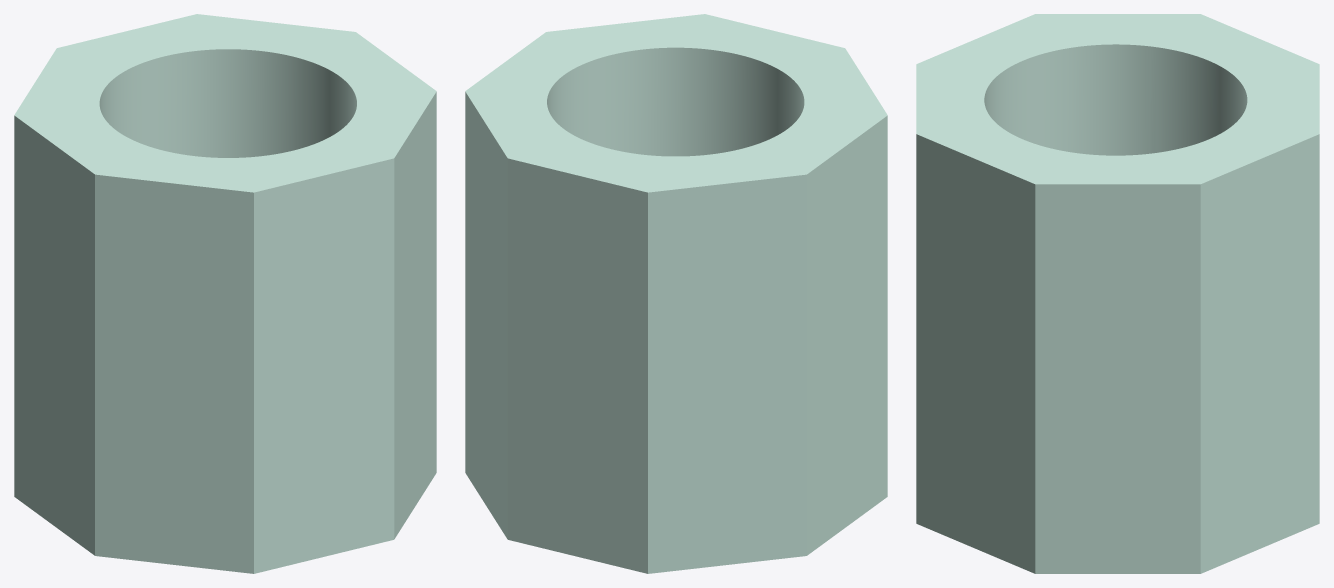
3 renders of one model, left to right at view 1: azimuth 30°, elevation 25°; view 2: azimuth 150°, elevation 25°; view 3: azimuth 270°, elevation 25°, orthographic. The views are drawn at different scales.
Parts seen in each view (by area): view 1: Renderer Node; view 2: Renderer Node; view 3: Renderer Node.
Part boxes in pixels (bbox=[...]): Renderer Node: bbox=[14, 14, 436, 573]; Renderer Node: bbox=[465, 14, 887, 573]; Renderer Node: bbox=[916, 14, 1319, 573].
Size of the model in its own units: 0.7031 by 0.75 by 0.7031.
